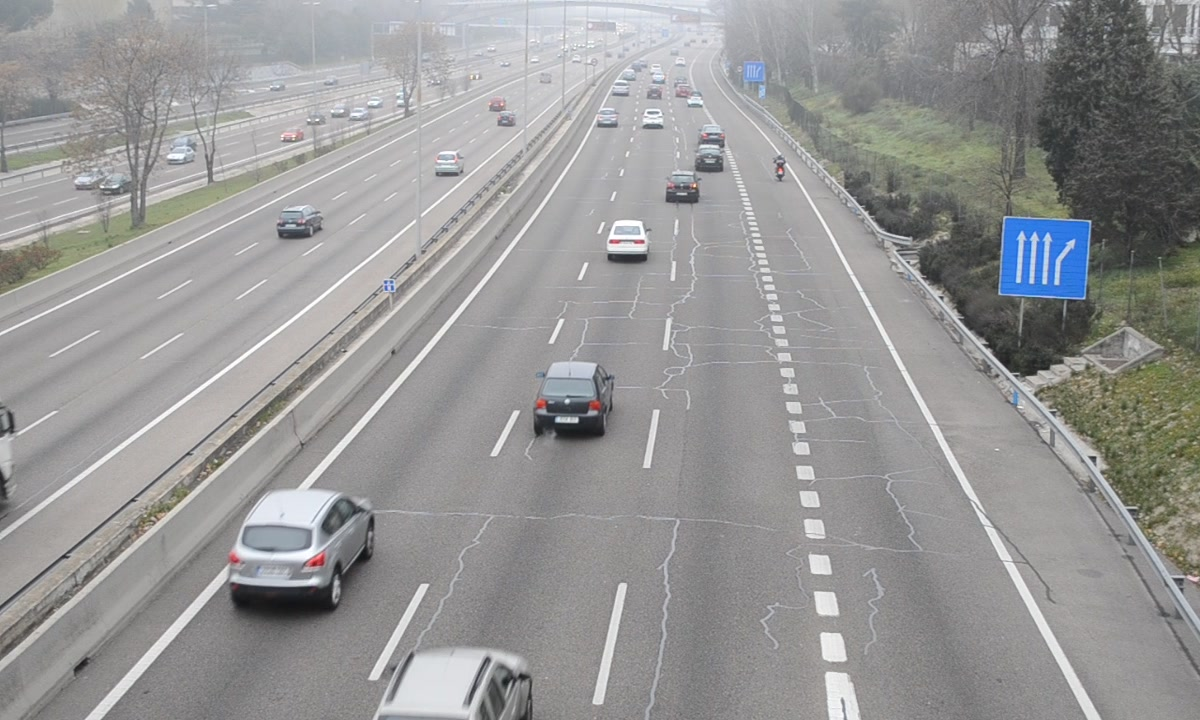car: (229, 492, 374, 593), (535, 363, 614, 430), (606, 219, 650, 259), (665, 171, 701, 204), (695, 145, 725, 173), (699, 124, 728, 147), (640, 107, 666, 131)
motorcycle: (773, 153, 788, 184)
